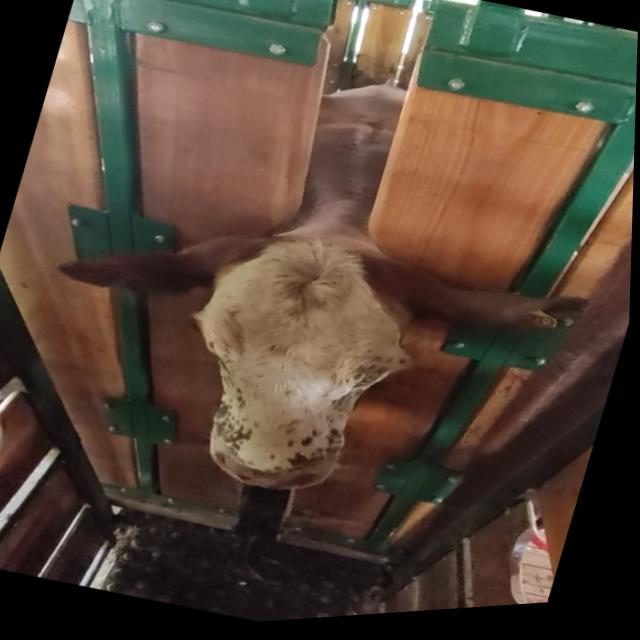cowFace: (157, 206, 443, 518)
